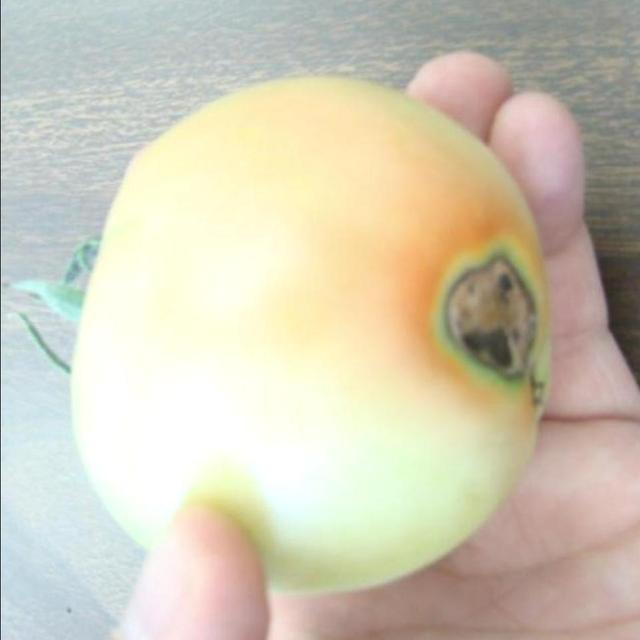Blossom End Rot Fruit: (282, 167, 365, 280)
